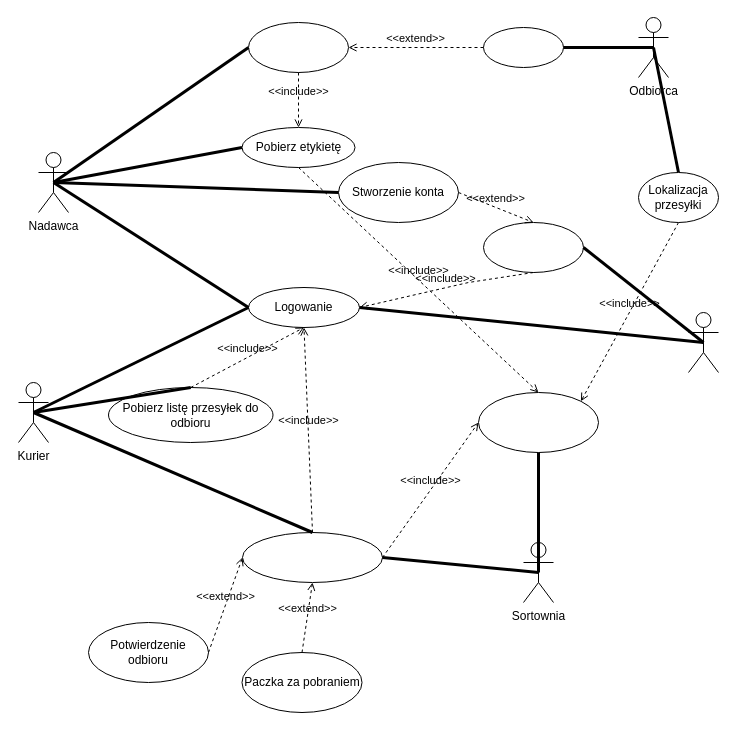
The diagram is 756 pixels wide and 730 high, and some of its shapes have lost their labels. The centre of each missing label's shape, as x and y in pixels:
"Administrator" goes at pixel 703 342.
"Aktualizacja stanu przesyłki" goes at pixel 312 557.
"Nadaj przesyłkę" goes at pixel 298 47.
"Pobranie danych przesyłki" goes at pixel 538 422.
"Zarządzanie Systemem" goes at pixel 533 247.
"Zwrot przesyłki" goes at pixel 523 47.
